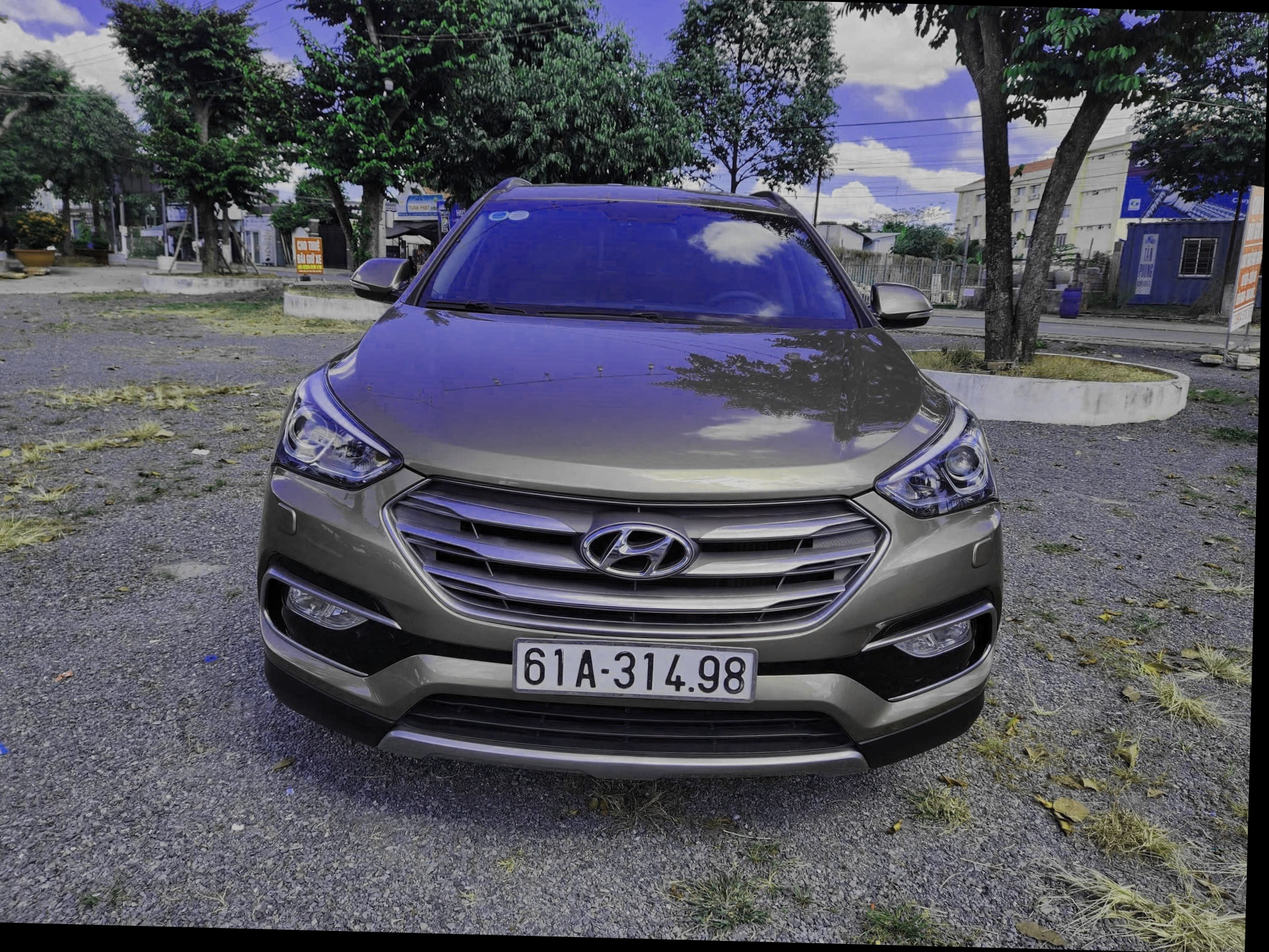Bien-so: (504, 636, 760, 709)
